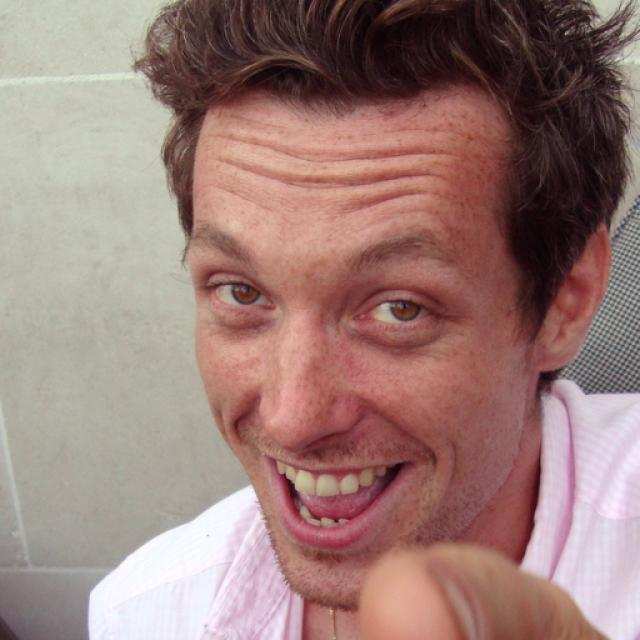Wrinkle: (207, 148, 451, 200), (203, 127, 462, 170), (344, 184, 450, 222)
